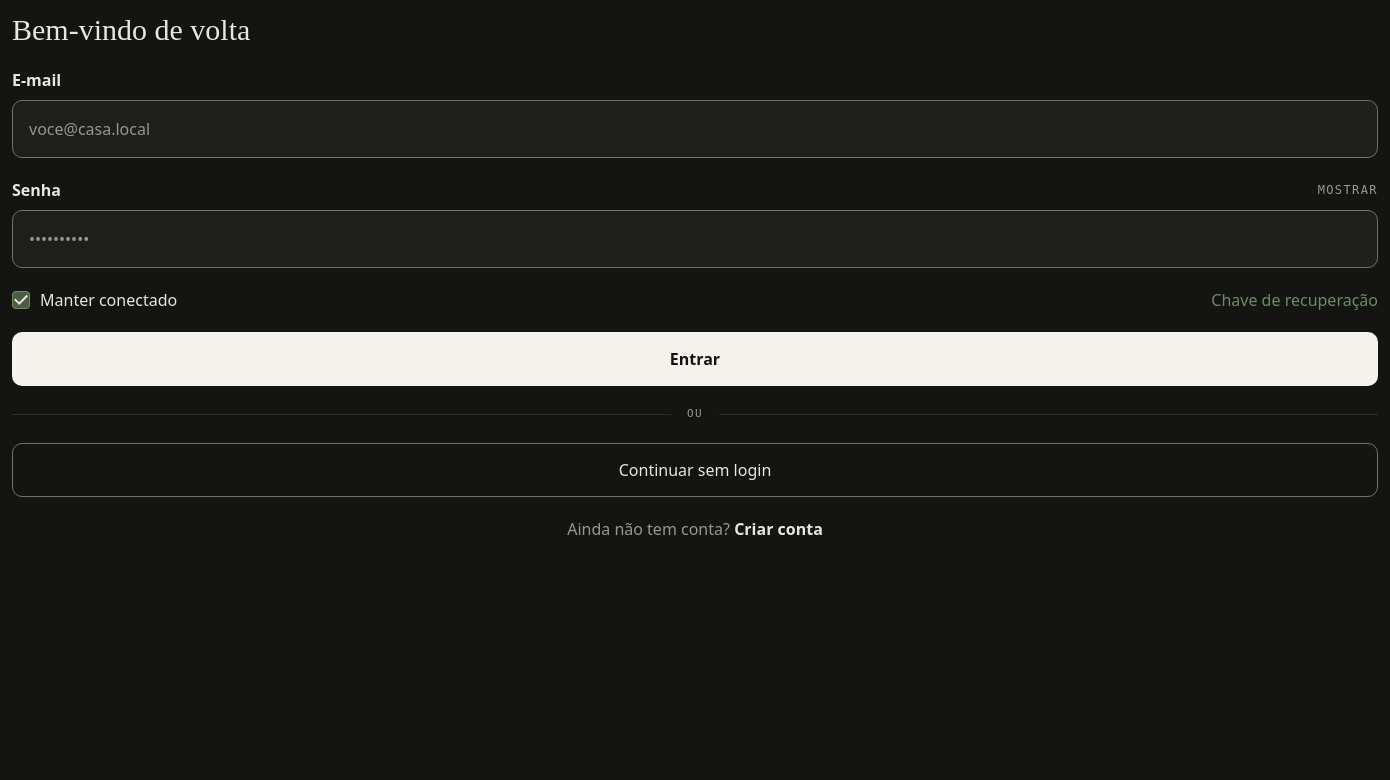
Scenario: AuthForm — uso descuidado › todos os campos têm label associado (acessibilidade)
The image size is (1390, 780).
Click the button "Criar conta" at [778, 528], box top-left (734, 516), bottom-right (823, 540)
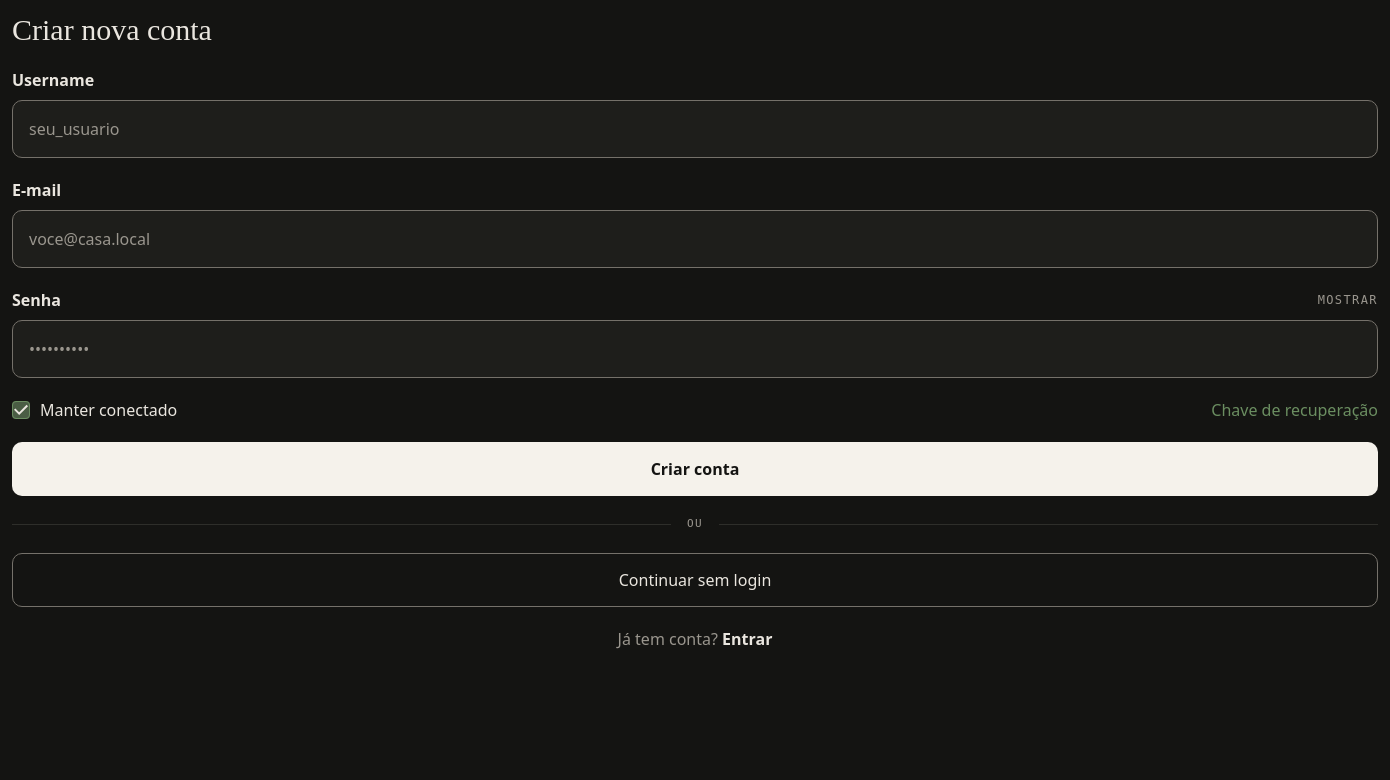
Expected: the field labelled "E-mail" is shown, top-left (12, 210), bottom-right (1378, 268)
Result: the field labelled "Username" is shown at top-left (12, 100), bottom-right (1378, 158)
